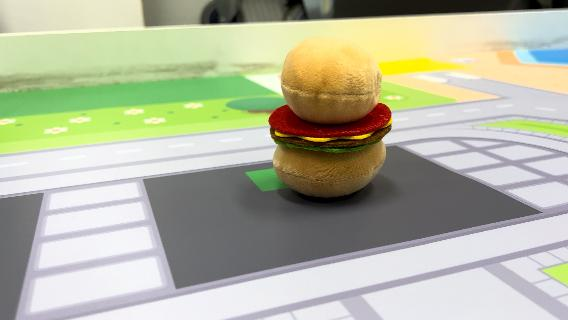burger: (266, 34, 396, 200)
